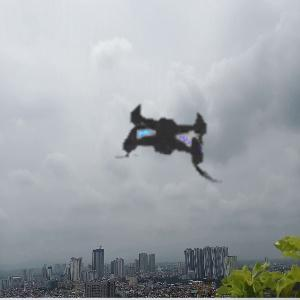drone: (59, 31, 266, 238)
